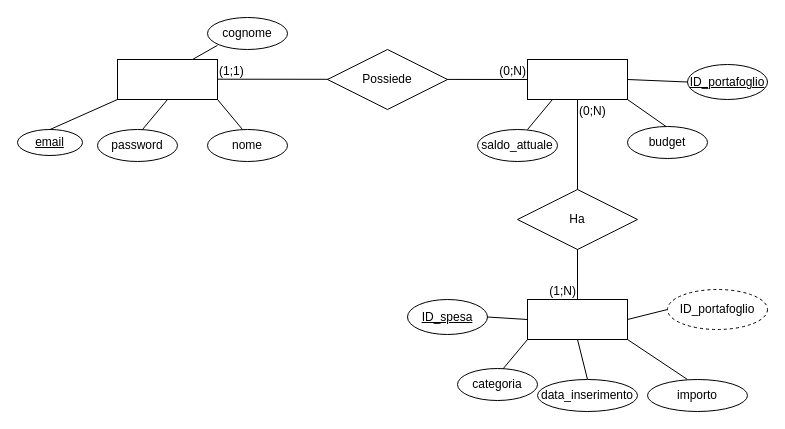
This 785x429 diagram has some shape labels left out. Here are the shapes that lost their labels. From the top down, the centre of each, then its label:
At pixel 167 79: "Utente".
At pixel 577 79: "Portafoglio".
At pixel 577 319: "Spese".
